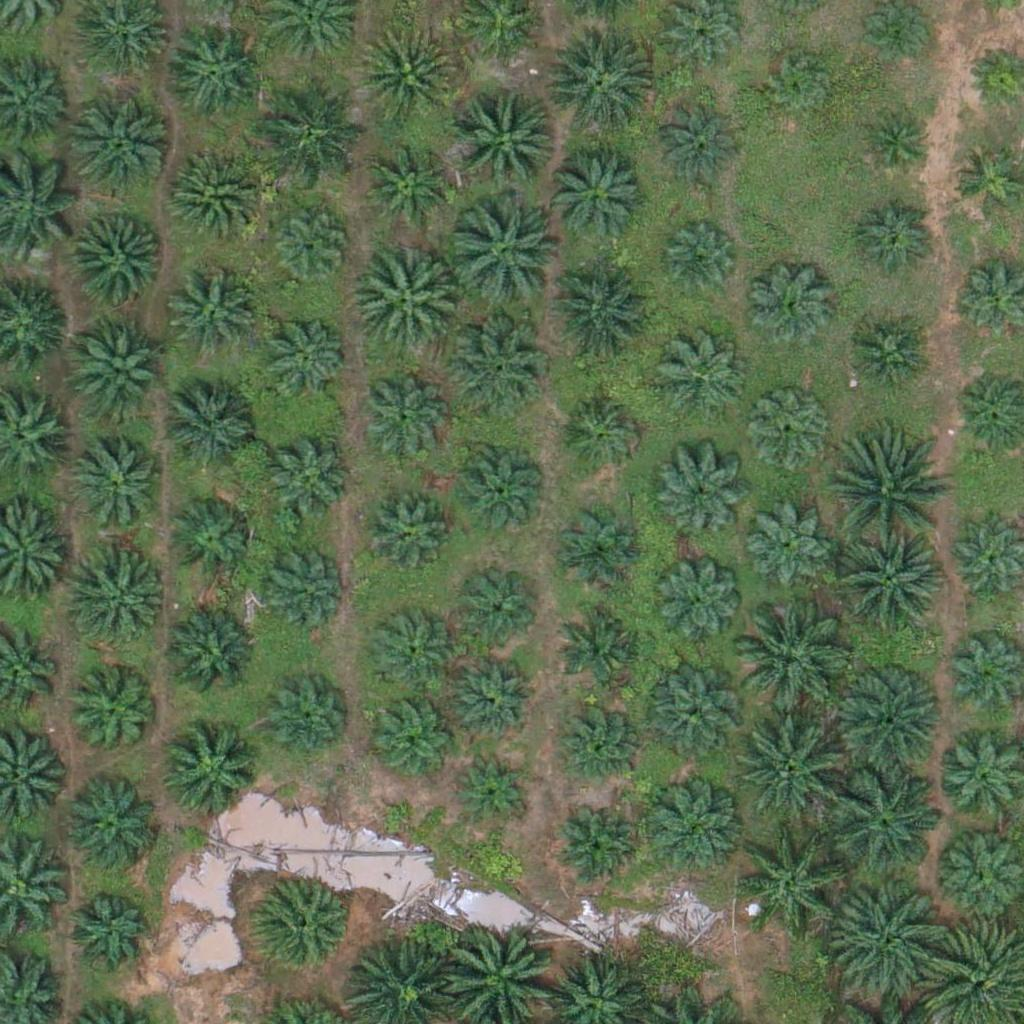Kelapa_Sawit: (826, 661, 939, 775), (833, 438, 946, 551), (830, 759, 943, 872), (538, 263, 651, 376), (447, 200, 560, 313), (258, 72, 371, 185), (837, 886, 949, 1000), (453, 85, 565, 199), (831, 531, 943, 644), (738, 825, 850, 938), (738, 716, 850, 829), (734, 604, 846, 717), (347, 244, 459, 357), (540, 28, 652, 141), (643, 671, 743, 772), (547, 150, 647, 251), (444, 317, 544, 418), (161, 146, 261, 247), (163, 375, 263, 476), (159, 607, 259, 708), (160, 723, 260, 824), (69, 551, 169, 652), (71, 94, 171, 195), (166, 26, 266, 127), (356, 25, 456, 126), (642, 777, 742, 877), (254, 879, 354, 979), (68, 213, 168, 313), (69, 318, 169, 418), (62, 779, 162, 879), (851, 198, 939, 286), (839, 314, 927, 402), (655, 457, 743, 545), (655, 558, 743, 646), (269, 203, 357, 291), (258, 310, 346, 398), (262, 438, 350, 526), (255, 540, 343, 628), (357, 488, 445, 576), (455, 443, 543, 531), (554, 806, 642, 894), (556, 389, 644, 477), (745, 390, 833, 478), (171, 271, 259, 359), (71, 673, 159, 761), (63, 886, 151, 974), (363, 146, 451, 234), (654, 103, 742, 191), (262, 675, 349, 763), (372, 692, 459, 780), (368, 607, 455, 695), (359, 371, 446, 459), (453, 568, 540, 656), (454, 652, 541, 740), (552, 696, 639, 784), (560, 599, 647, 687), (552, 502, 639, 590), (747, 261, 834, 349), (744, 503, 831, 591), (658, 334, 745, 422), (167, 493, 254, 581), (76, 437, 163, 525), (662, 224, 737, 300), (455, 749, 530, 825), (858, 107, 933, 183), (764, 50, 839, 125)
